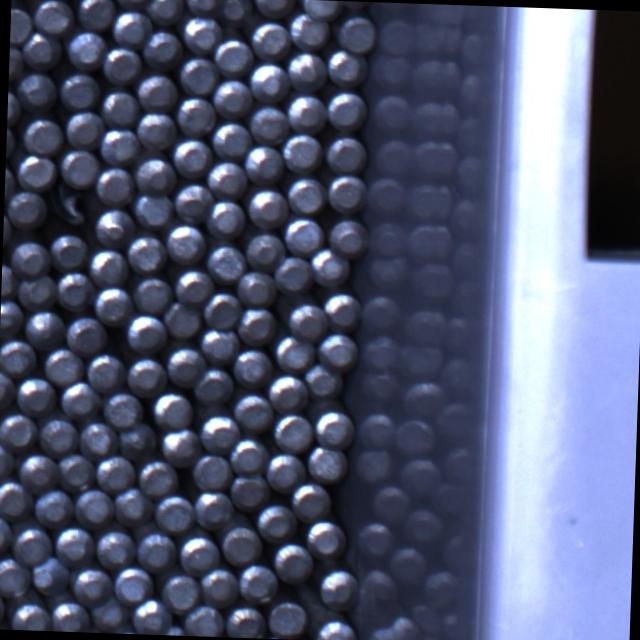tool: (178, 532, 220, 574), (10, 522, 52, 564), (272, 540, 314, 582), (72, 564, 114, 606), (319, 568, 360, 610), (91, 285, 132, 326), (85, 350, 126, 391), (66, 316, 108, 356), (240, 562, 280, 604), (325, 90, 365, 132), (15, 453, 57, 493), (94, 528, 136, 568), (290, 480, 332, 520), (166, 222, 206, 264), (158, 426, 200, 466), (197, 412, 239, 452), (151, 389, 194, 428), (282, 132, 323, 172), (5, 188, 46, 228), (162, 570, 202, 611), (136, 531, 176, 572), (39, 417, 80, 457), (309, 247, 350, 287), (124, 312, 165, 352), (286, 51, 326, 92), (250, 60, 290, 101), (307, 520, 348, 560), (247, 187, 287, 228), (266, 598, 308, 637), (272, 412, 314, 451), (114, 486, 156, 525), (36, 486, 76, 526), (314, 408, 354, 448), (198, 566, 238, 606), (207, 242, 247, 282), (330, 218, 370, 258), (126, 356, 166, 396), (286, 93, 326, 133), (154, 492, 194, 532), (222, 526, 262, 566), (16, 376, 56, 416), (124, 233, 164, 273), (67, 32, 107, 72), (327, 173, 367, 213), (194, 490, 234, 530), (55, 524, 95, 564), (74, 486, 114, 526), (170, 136, 210, 176), (212, 80, 252, 120), (94, 166, 134, 206), (32, 554, 72, 594), (234, 392, 274, 432), (142, 30, 182, 70), (316, 332, 357, 371), (60, 380, 101, 419), (100, 125, 142, 163), (136, 72, 178, 110), (22, 31, 62, 70), (59, 148, 98, 188), (244, 143, 284, 182), (283, 216, 323, 255), (96, 453, 136, 492), (10, 238, 50, 277), (256, 503, 296, 542), (56, 453, 96, 492), (80, 421, 120, 460), (16, 72, 56, 111), (178, 97, 218, 136), (98, 88, 138, 127), (65, 110, 104, 150), (326, 48, 367, 86), (306, 444, 347, 482), (44, 346, 85, 384), (103, 390, 144, 428), (89, 593, 130, 631), (113, 566, 154, 604), (56, 271, 94, 312), (22, 310, 63, 348), (173, 183, 211, 224), (182, 12, 224, 49), (264, 451, 303, 490), (205, 197, 244, 236), (133, 597, 173, 635), (16, 152, 56, 190), (137, 458, 177, 496), (22, 116, 62, 154), (325, 134, 365, 172), (289, 12, 329, 50), (267, 370, 307, 408), (118, 420, 158, 458), (289, 300, 329, 338), (168, 346, 206, 386), (178, 55, 218, 93), (86, 248, 126, 286), (136, 112, 176, 150), (132, 190, 172, 228), (0, 412, 37, 453), (207, 162, 248, 199), (213, 37, 252, 75), (237, 268, 276, 306), (239, 306, 277, 345), (191, 452, 230, 490), (163, 298, 202, 336), (60, 72, 100, 109), (274, 334, 314, 371), (50, 233, 88, 271), (202, 290, 240, 328), (251, 20, 289, 58), (245, 232, 283, 270), (232, 347, 270, 385), (228, 434, 266, 472), (324, 290, 362, 328), (133, 275, 172, 312), (249, 105, 288, 142), (18, 272, 58, 308), (210, 121, 250, 157), (194, 366, 234, 402), (224, 604, 266, 638), (340, 14, 378, 51), (274, 255, 312, 292), (288, 175, 326, 212), (114, 7, 152, 44), (92, 205, 130, 242), (0, 336, 36, 375), (101, 46, 140, 82), (303, 361, 342, 397), (230, 473, 269, 509), (174, 266, 212, 302), (33, 0, 73, 34), (182, 604, 224, 636), (0, 479, 32, 521), (51, 599, 91, 632), (8, 600, 49, 630), (75, 0, 114, 31), (0, 557, 30, 597), (313, 617, 357, 640), (10, 6, 32, 44), (253, 0, 297, 17), (300, 0, 343, 16), (0, 367, 15, 408), (0, 438, 15, 479), (6, 87, 20, 127), (8, 43, 22, 81), (0, 512, 12, 553), (4, 160, 13, 200), (6, 122, 14, 158), (0, 588, 7, 628)
tool_b: (50, 188, 90, 228)
